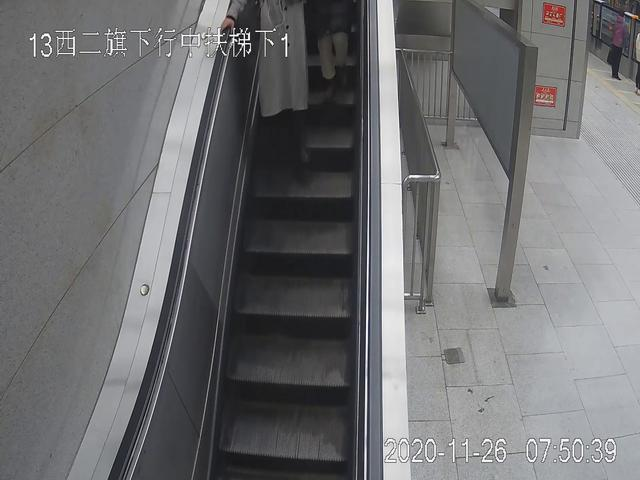person: (226, 1, 317, 161), (607, 9, 627, 80)
